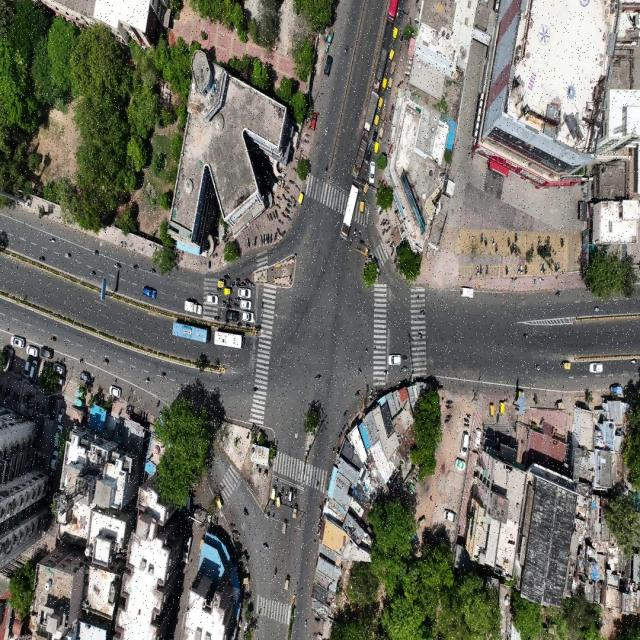3W: (282, 573, 292, 593), (279, 518, 289, 538), (560, 359, 573, 374), (499, 398, 508, 418), (291, 504, 300, 523), (269, 483, 277, 504), (214, 493, 223, 511), (488, 401, 496, 419), (274, 494, 283, 510), (296, 193, 305, 206), (359, 199, 365, 218), (388, 48, 395, 64), (363, 181, 369, 198), (392, 27, 398, 44), (388, 77, 394, 94), (365, 151, 372, 165), (359, 178, 365, 194), (373, 142, 379, 157), (374, 114, 380, 129), (377, 97, 383, 112), (382, 77, 387, 94), (380, 111, 387, 123), (217, 280, 227, 288), (391, 61, 396, 77), (378, 129, 384, 142), (224, 288, 233, 296), (372, 130, 378, 142)
Bus: (170, 319, 211, 350), (213, 329, 248, 354)
Cars: (589, 358, 607, 378), (460, 430, 472, 459), (458, 285, 476, 303), (142, 283, 158, 302), (443, 506, 458, 526), (52, 426, 65, 449), (11, 334, 26, 353), (48, 450, 60, 473), (323, 55, 335, 78), (107, 384, 123, 401), (56, 407, 69, 426), (31, 358, 40, 383), (40, 346, 56, 360), (55, 361, 68, 378), (25, 344, 40, 358), (387, 353, 403, 366), (311, 110, 320, 132), (205, 293, 219, 306), (23, 358, 31, 380), (369, 160, 376, 185), (242, 311, 256, 323), (237, 288, 253, 298), (239, 300, 254, 310), (226, 311, 240, 320), (288, 484, 294, 504)
LCV: (183, 297, 203, 315)
M2W: (520, 327, 532, 344), (338, 405, 350, 420), (553, 287, 565, 301), (628, 353, 639, 368), (158, 367, 169, 382), (261, 537, 271, 553), (352, 387, 365, 399), (242, 504, 251, 520), (445, 393, 456, 406), (531, 363, 543, 374), (147, 266, 158, 278), (102, 356, 112, 369), (37, 252, 47, 265), (113, 258, 123, 271), (130, 262, 140, 275), (592, 302, 601, 316), (62, 250, 73, 261), (272, 564, 279, 581), (293, 484, 300, 500), (50, 332, 58, 346), (154, 397, 162, 411), (90, 247, 100, 258), (443, 414, 452, 426), (314, 371, 323, 383), (356, 365, 365, 377), (400, 362, 409, 374), (402, 350, 411, 362), (266, 509, 273, 524), (322, 161, 329, 176), (48, 234, 56, 247), (495, 411, 501, 428), (143, 375, 152, 386), (363, 345, 370, 358), (79, 354, 86, 367), (343, 43, 350, 56), (444, 404, 454, 413), (88, 268, 97, 278), (284, 487, 290, 501), (419, 307, 428, 316), (466, 409, 474, 419), (463, 419, 471, 429), (383, 369, 391, 379), (416, 330, 423, 341), (363, 166, 369, 178), (358, 228, 363, 241), (253, 235, 258, 247), (271, 211, 277, 221), (348, 237, 354, 247), (289, 194, 296, 202), (278, 218, 284, 227), (379, 216, 385, 225), (393, 206, 399, 215), (385, 65, 389, 78), (383, 97, 387, 110), (379, 207, 384, 217), (216, 286, 223, 293), (289, 178, 296, 185), (274, 231, 278, 243), (281, 211, 287, 219), (282, 193, 287, 202), (381, 228, 386, 237), (247, 237, 251, 248), (266, 213, 270, 224), (400, 8, 404, 19), (214, 314, 220, 321), (270, 232, 273, 246), (275, 203, 282, 209), (276, 195, 282, 202), (295, 185, 301, 192), (303, 138, 309, 145), (354, 224, 357, 238), (325, 126, 329, 136), (260, 234, 263, 247), (397, 6, 400, 19), (220, 300, 226, 306), (233, 304, 239, 310), (226, 303, 232, 309), (263, 234, 266, 246), (223, 274, 230, 279), (243, 278, 250, 283), (285, 207, 290, 214), (386, 239, 391, 246), (386, 220, 391, 227), (234, 297, 240, 302), (234, 277, 240, 282), (229, 282, 235, 287), (249, 282, 255, 287), (284, 186, 290, 191), (305, 133, 311, 138), (399, 28, 402, 38), (227, 298, 233, 302), (241, 283, 247, 287), (267, 233, 269, 245), (236, 283, 242, 286)
Truck: (340, 182, 359, 242), (351, 135, 368, 181), (373, 46, 389, 91), (364, 91, 380, 135)
